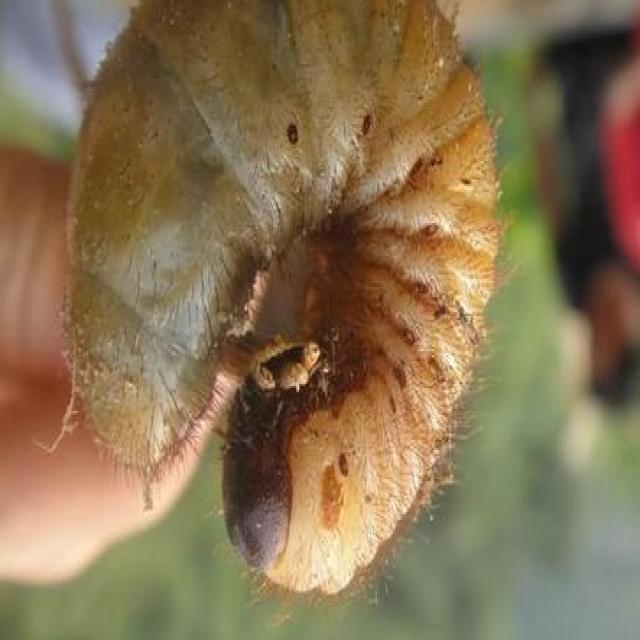grub: (59, 2, 507, 607)
